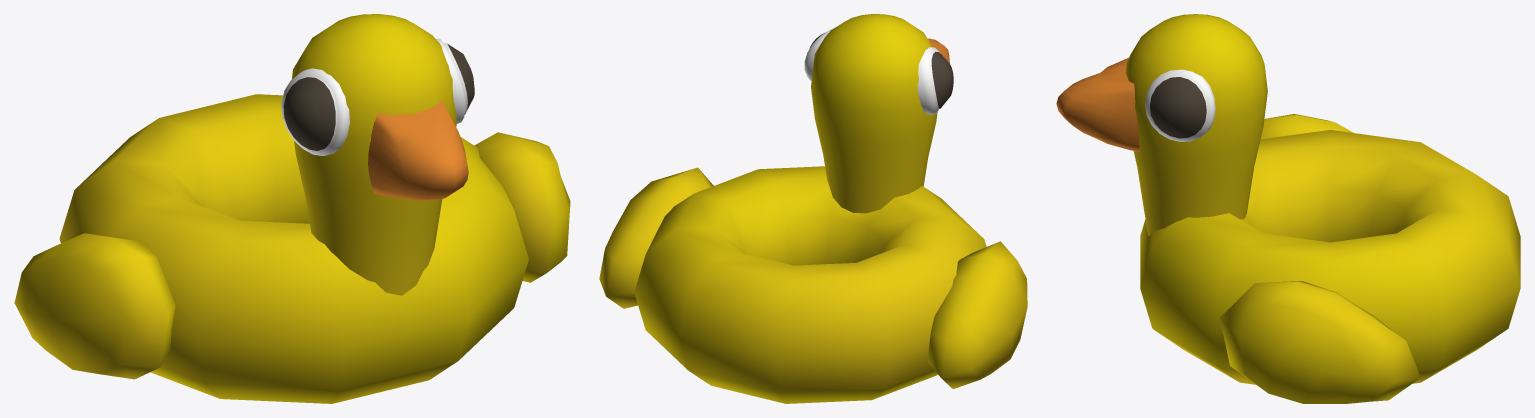
The model's file is ENV_Ducky_Float.fbx.
3 renders of one model, left to right at view 1: azimuth 30°, elevation 25°; view 2: azimuth 150°, elevation 25°; view 3: azimuth 270°, elevation 25°, orthographic. The views are drawn at different scales.
Visible parts, largest first — view 1: ENV_Ducky_Float; view 2: ENV_Ducky_Float; view 3: ENV_Ducky_Float.
Boxes of the visible parts, x1,y1,x2,y2 form: ENV_Ducky_Float: (14,14,570,403); ENV_Ducky_Float: (599,14,1027,403); ENV_Ducky_Float: (1056,14,1520,403).
Bounding box in the file's own units: 0.7736 × 0.5328 × 0.7227.
